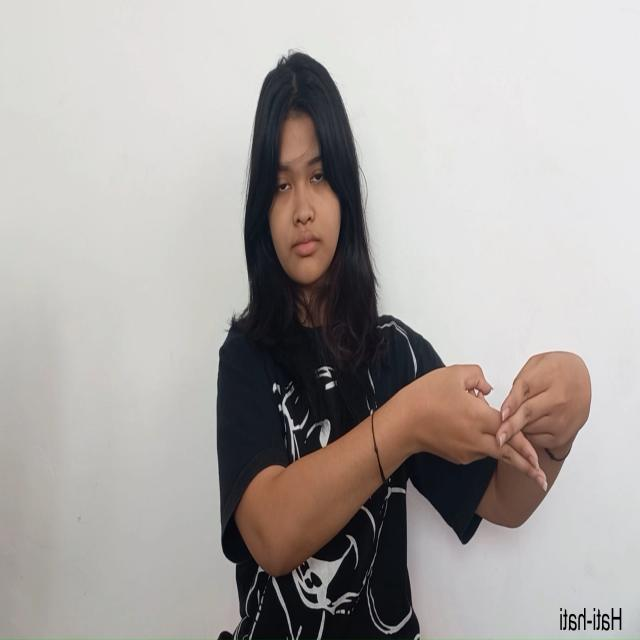Hati-hati -BISINDO-: (405, 350, 593, 494)
